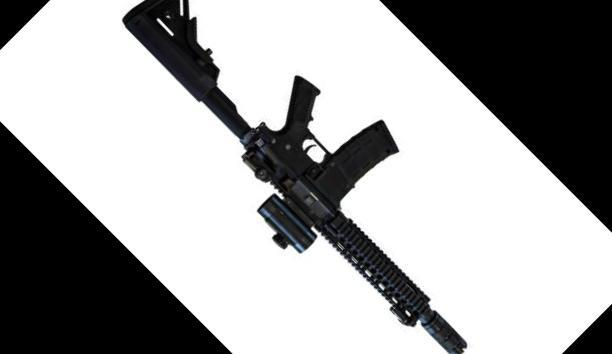larga: (122, 0, 469, 354)
